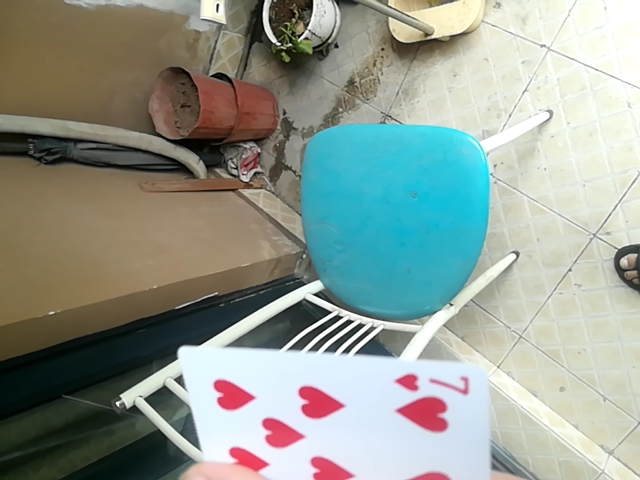hx 7: (167, 346, 494, 480)
